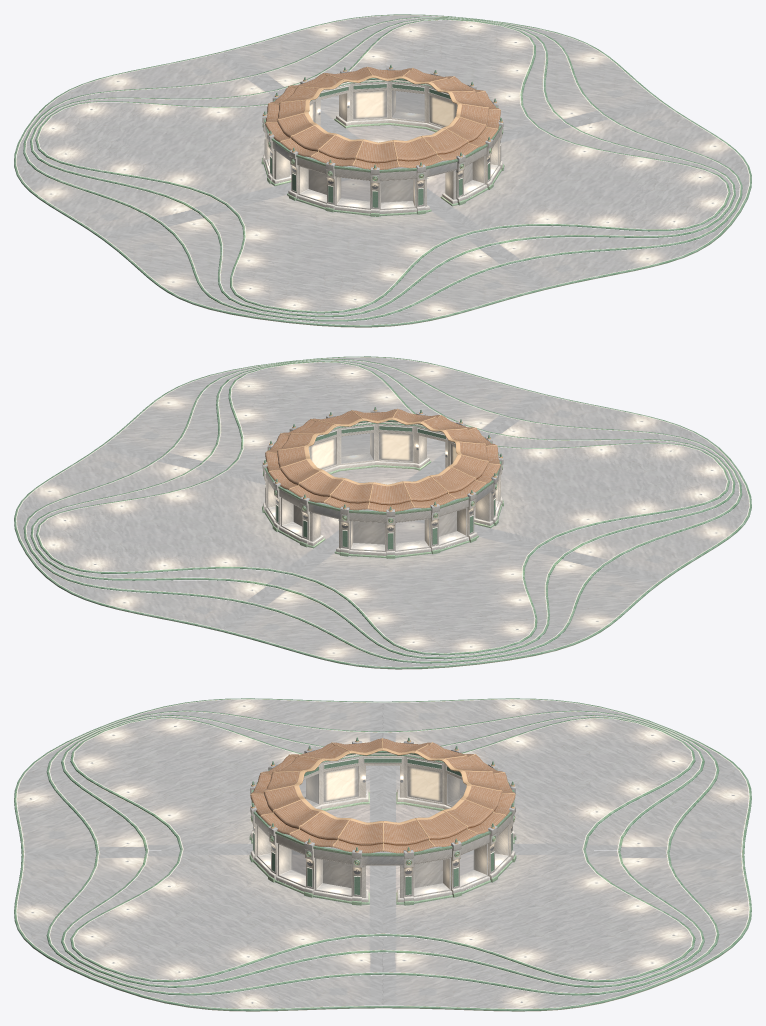
The model's file is structure.glb.
3 renders of one model, top to bottom at view 1: azimuth 30°, elevation 25°; view 2: azimuth 150°, elevation 25°; view 3: azimuth 270°, elevation 25°, orthographic. The views are drawn at different scales.
Parts seen in each view (by area): view 1: Steps_Low, ModuleWindow_Low.009, ModuleWindow_Low.013, glass.001, ModuleWindow_Low, ModuleDoor_Low.001, ModuleWindow_Low.018, ModuleWindow_Low.014, ModuleDoor_Low, Ceiling.010, Ceiling.011, Ceiling.009 (+14 smaller); view 2: Steps_Low, ModuleWindow_Low.021, glass.001, ModuleWindow_Low.020, ModuleWindow_Low.022, ModuleDoor_Low.003, ModuleWindow_Low.019, ModuleWindow_Low.015, Ceiling.005, Ceiling.004, Ceiling.006, Ceiling.003 (+14 smaller); view 3: Steps_Low, ModuleWindow_Low.016, ModuleWindow_Low.017, ModuleWindow_Low.015, ModuleWindow_Low.018, ModuleDoor_Low.002, glass.001, Ceiling.015, Ceiling, Ceiling.001, Ceiling.014, ModuleWindow_Low.014 (+20 smaller).
Boxes of the visible parts, x1=… form: Steps_Low: x1=14, y1=14, x2=751, y2=327; ModuleWindow_Low.009: x1=334, y1=164, x2=379, y2=216; ModuleWindow_Low.013: x1=379, y1=162, x2=425, y2=216; glass.001: x1=341, y1=90, x2=424, y2=201; ModuleWindow_Low: x1=296, y1=154, x2=335, y2=212; ModuleDoor_Low.001: x1=425, y1=152, x2=465, y2=212; ModuleWindow_Low.018: x1=386, y1=65, x2=426, y2=128; ModuleWindow_Low.014: x1=464, y1=137, x2=493, y2=201; ModuleDoor_Low: x1=271, y1=138, x2=298, y2=200; Ceiling.010: x1=352, y1=139, x2=398, y2=169; Ceiling.011: x1=392, y1=136, x2=442, y2=168; Ceiling.009: x1=310, y1=134, x2=362, y2=166; Steps_Low: x1=14, y1=356, x2=751, y2=669; ModuleWindow_Low.021: x1=395, y1=501, x2=440, y2=557; glass.001: x1=341, y1=432, x2=424, y2=543; ModuleWindow_Low.020: x1=348, y1=506, x2=395, y2=558; ModuleWindow_Low.022: x1=438, y1=490, x2=476, y2=551; ModuleDoor_Low.003: x1=307, y1=501, x2=349, y2=556; ModuleWindow_Low.019: x1=278, y1=486, x2=309, y2=547; ModuleWindow_Low.015: x1=326, y1=412, x2=376, y2=471; Ceiling.005: x1=367, y1=481, x2=413, y2=511; Ceiling.004: x1=323, y1=478, x2=372, y2=510; Ceiling.006: x1=402, y1=476, x2=454, y2=508; Ceiling.003: x1=289, y1=470, x2=344, y2=502; Steps_Low: x1=14, y1=698, x2=751, y2=1011; ModuleWindow_Low.016: x1=313, y1=846, x2=362, y2=905; ModuleWindow_Low.017: x1=413, y1=838, x2=461, y2=903; ModuleWindow_Low.015: x1=275, y1=831, x2=314, y2=897; ModuleWindow_Low.018: x1=460, y1=823, x2=497, y2=894; ModuleDoor_Low.002: x1=361, y1=847, x2=413, y2=905; glass.001: x1=291, y1=774, x2=474, y2=875; Ceiling.015: x1=332, y1=818, x2=382, y2=853; Ceiling: x1=382, y1=818, x2=433, y2=853; Ceiling.001: x1=415, y1=811, x2=476, y2=846; Ceiling.014: x1=289, y1=810, x2=350, y2=847; ModuleWindow_Low.014: x1=253, y1=811, x2=277, y2=882.
Size of what is drawn, in the model's own units: 121 by 12.79 by 121.
Materials: 11 (6 with a texture image).
